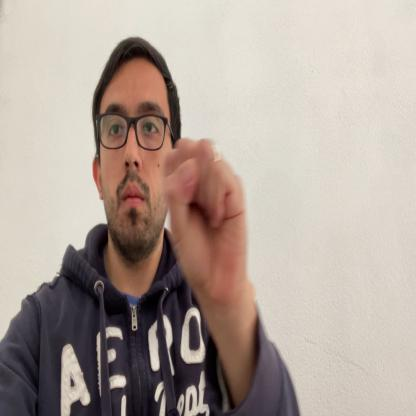S: (164, 139, 247, 301)
